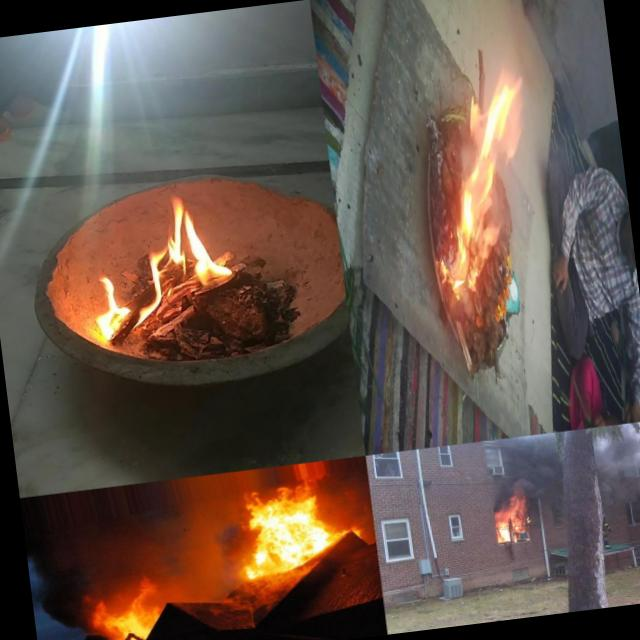fire: (80, 193, 240, 345), (238, 482, 334, 578), (509, 254, 564, 417), (90, 582, 169, 640), (556, 332, 602, 430), (487, 492, 539, 544)
smoke: (498, 432, 564, 498), (593, 429, 640, 514)
